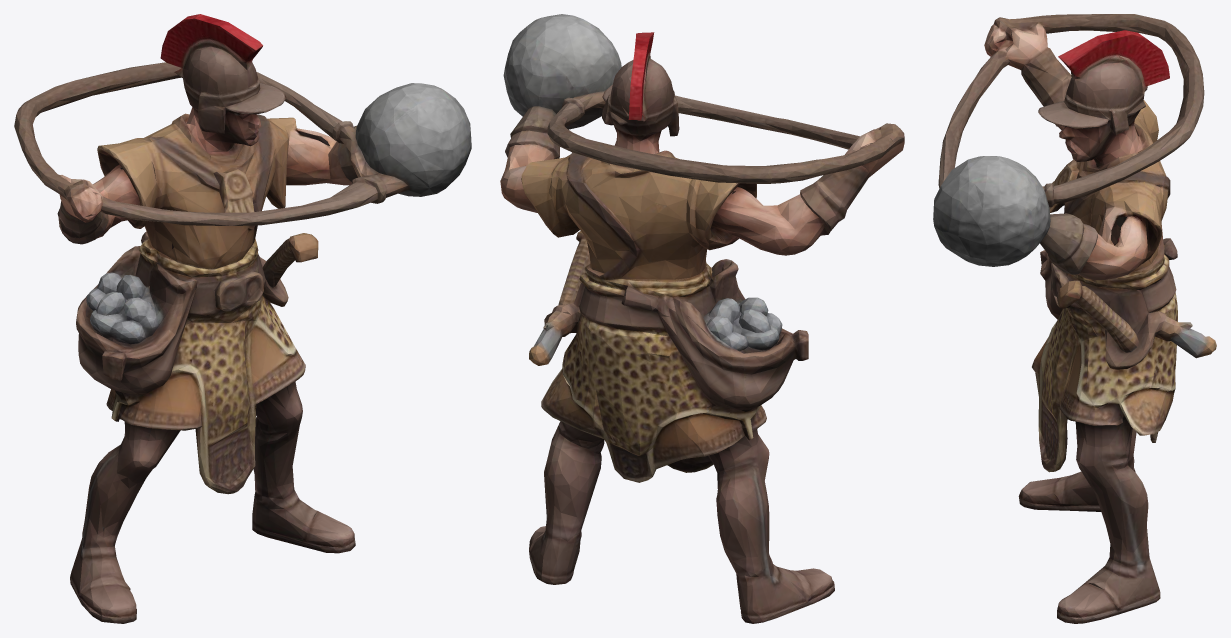
Rendered from legionSlinger.glb.
3 views of the same model, side by side, from view 1: azimuth 30°, elevation 25°; view 2: azimuth 150°, elevation 25°; view 3: azimuth 270°, elevation 25° (orthographic). The views are drawn at different scales.
Visible parts, largest first — view 1: world; view 2: world; view 3: world.
Boxes of the visible parts, x1=… form: world: x1=14, y1=14, x2=471, y2=623; world: x1=500, y1=14, x2=904, y2=623; world: x1=933, y1=14, x2=1216, y2=623.
Size of the model in its own units: 0.7703 by 0.9989 by 0.4846.
1 material, 1 textured.
